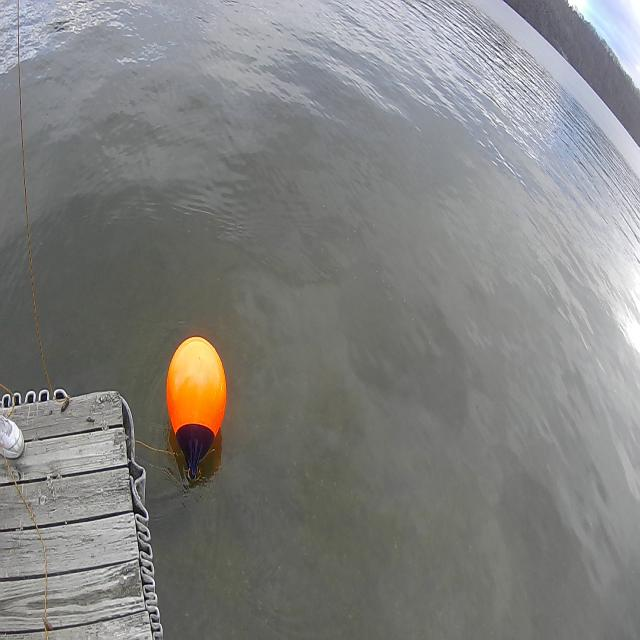Buoy: (161, 328, 230, 486)
